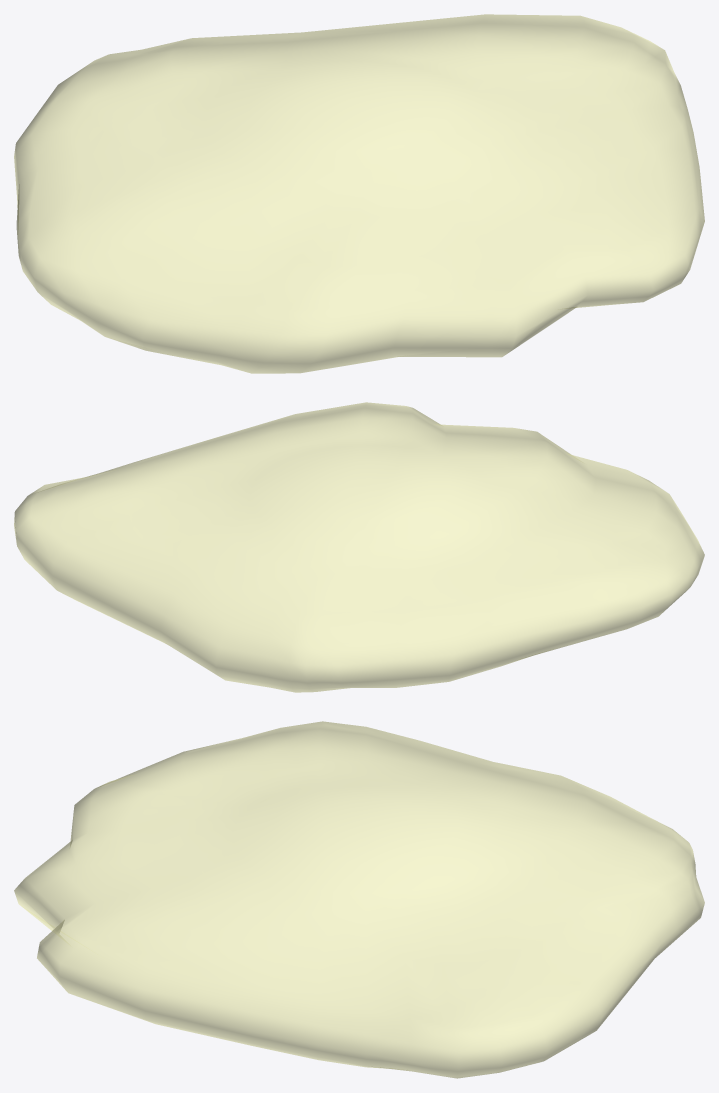
The model's file is glycerin.glb.
3 renders of one model, top to bottom at view 1: azimuth 30°, elevation 25°; view 2: azimuth 150°, elevation 25°; view 3: azimuth 270°, elevation 25°, orthographic. The views are drawn at different scales.
Parts seen in each view (by area): view 1: Sphere; view 2: Sphere; view 3: Sphere.
Boxes of the visible parts, x1,y1,x2,y2 form: Sphere: [14, 14, 704, 373]; Sphere: [14, 402, 704, 692]; Sphere: [14, 721, 704, 1078].
Bounding box in the file's own units: 5.61 × 1.33 × 5.13.
